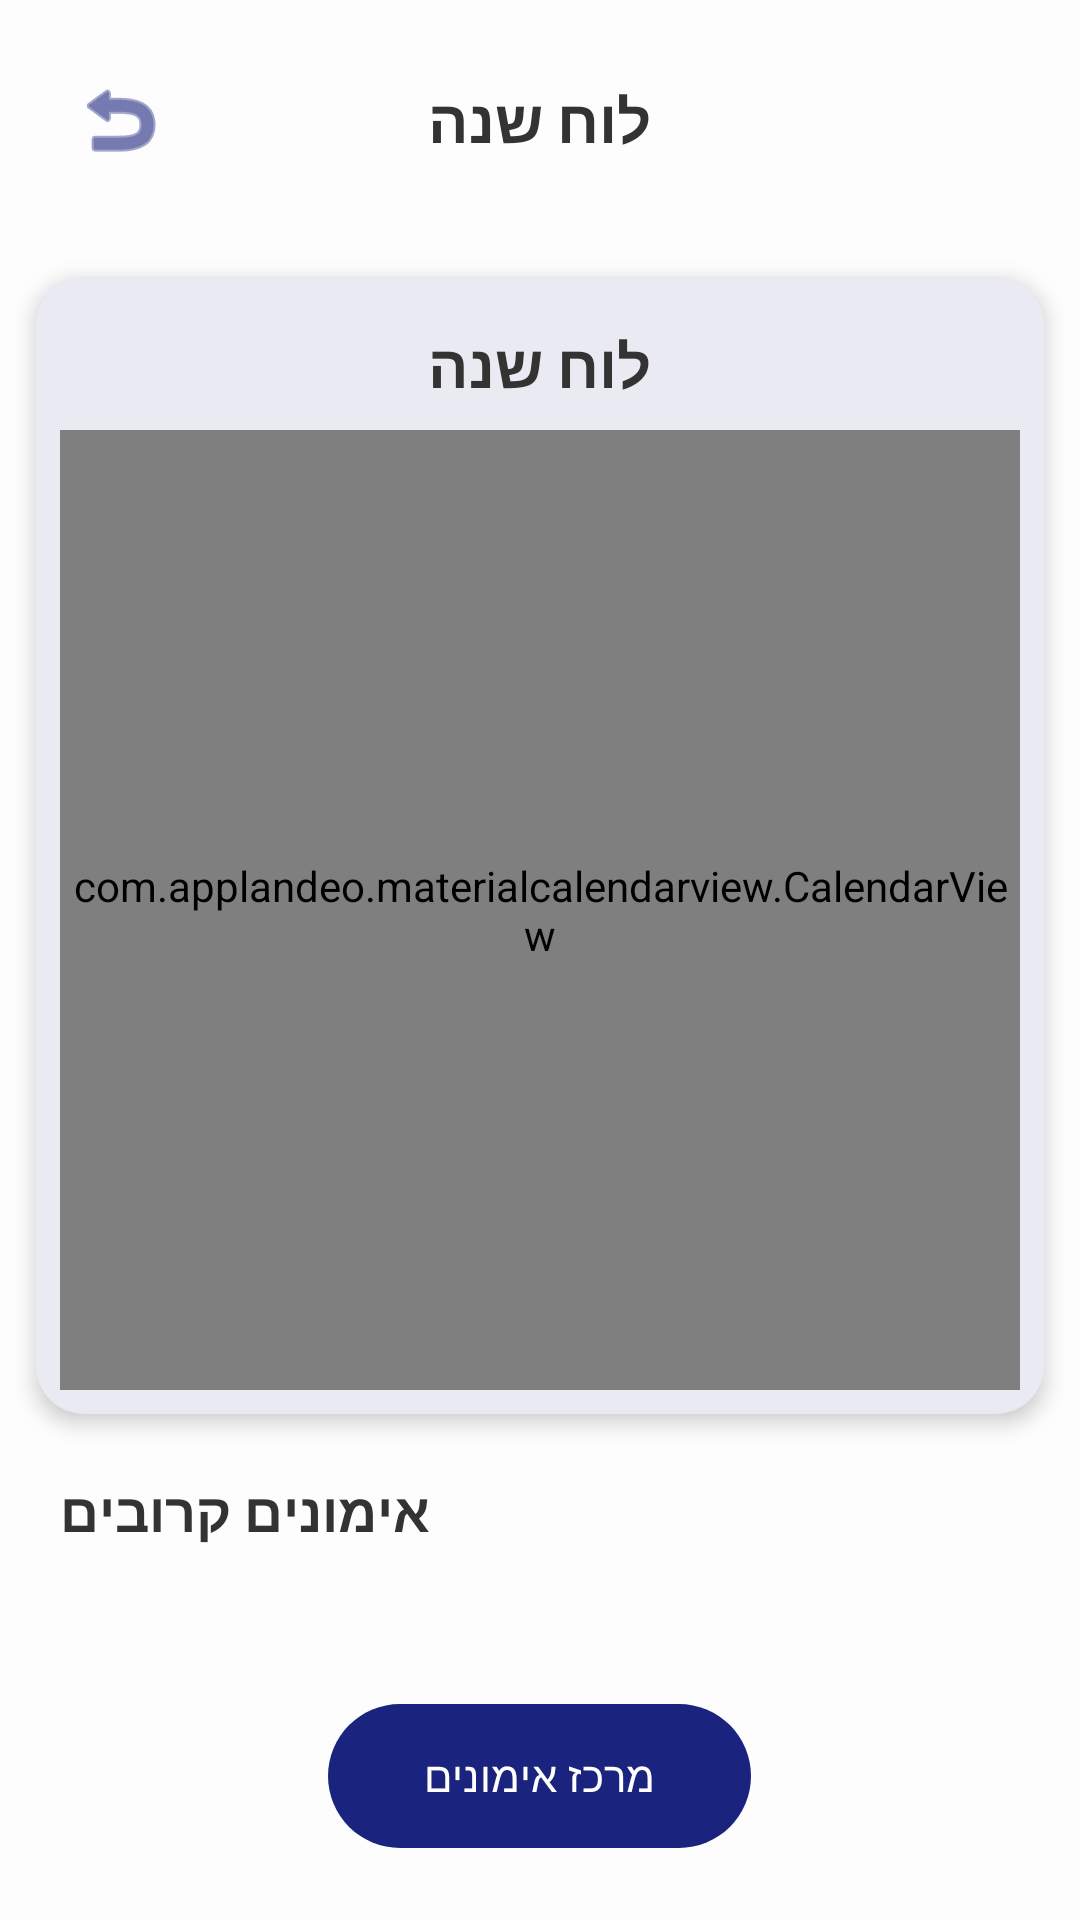

Point at icon controls on the screen. Image size 1080px×1920px, points as [x,y].
חזרה: [121,120]
